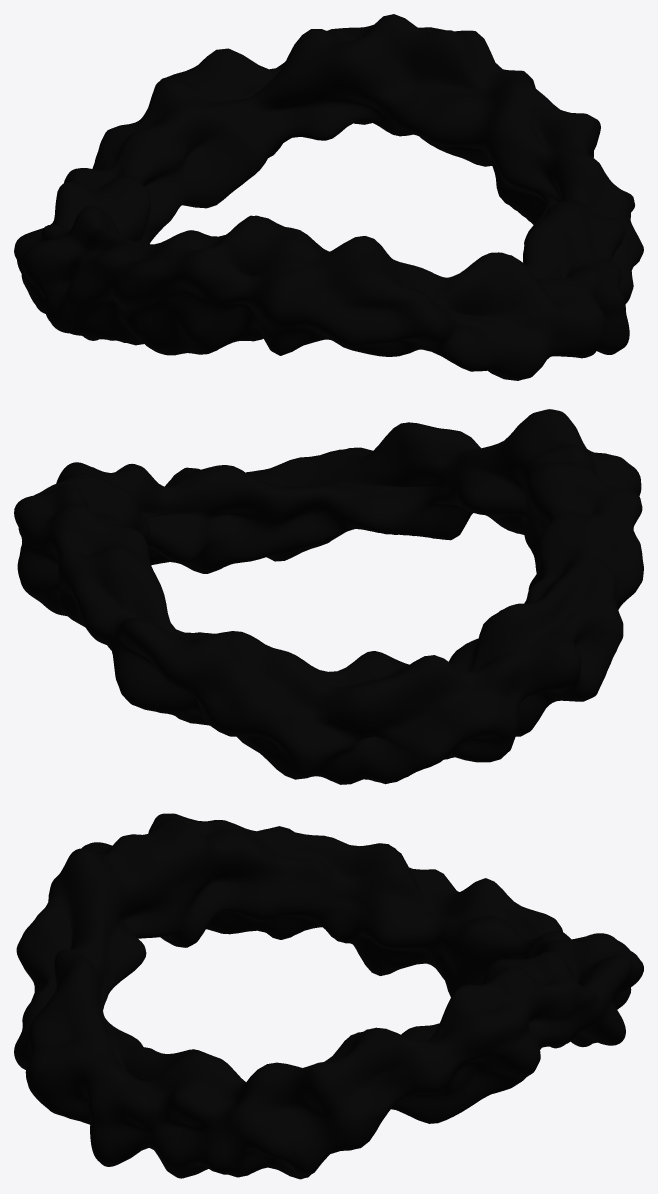
The model's file is donut-bla-1.glb.
The picture shows the model from 3 angles, top to bottom: view 1: azimuth 30°, elevation 25°; view 2: azimuth 150°, elevation 25°; view 3: azimuth 270°, elevation 25°; orthographic projection. The views are drawn at different scales.
Parts seen in each view (by area): view 1: Torus; view 2: Torus; view 3: Torus.
Boxes of the visible parts, bbox=[...] form: Torus: bbox=[14, 14, 643, 380]; Torus: bbox=[14, 409, 643, 784]; Torus: bbox=[14, 813, 643, 1179].
Size of the model in its own units: 19.2 by 6.5 by 19.12.
Materials: 1 (1 with a texture image).
